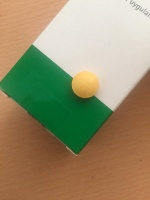Nurofen: (70, 69, 101, 100)
